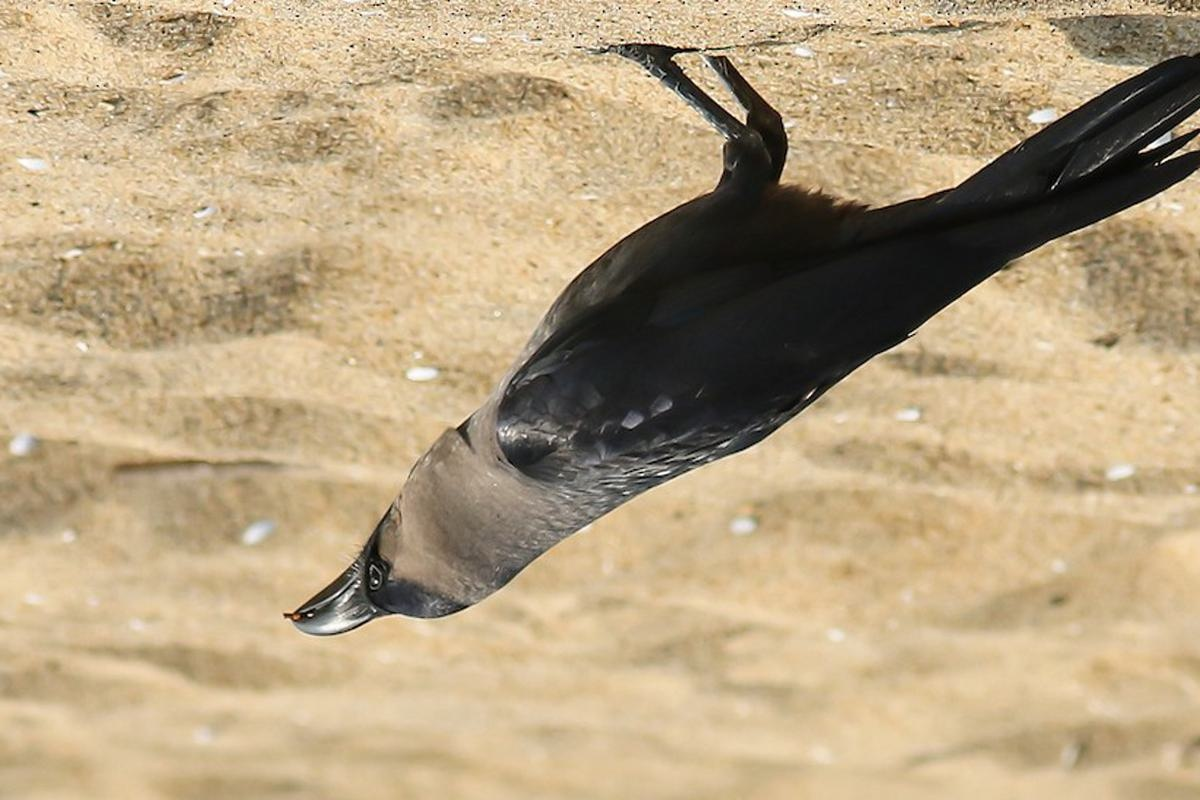crow: (280, 42, 1200, 649)
